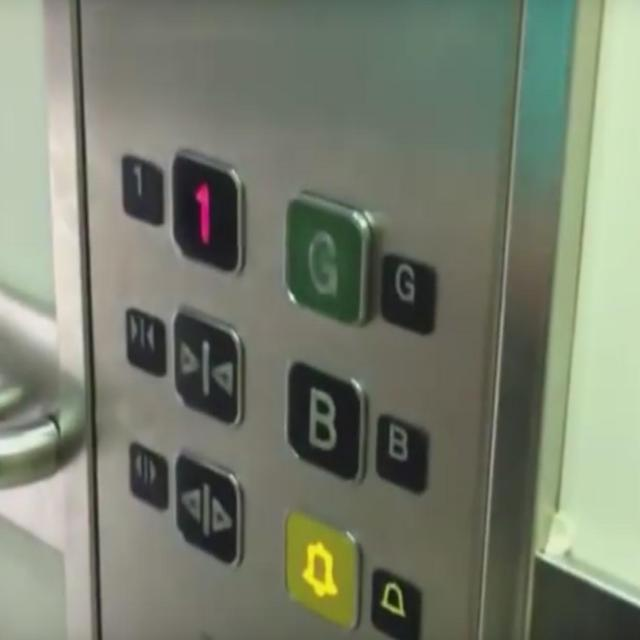1: (166, 140, 252, 286), (114, 143, 169, 235)
B: (281, 353, 372, 488), (370, 407, 434, 498)
G: (277, 182, 380, 332), (376, 249, 441, 341)
alarm: (276, 501, 367, 635), (368, 562, 424, 639)
close: (168, 298, 250, 433), (117, 298, 171, 385)
open: (172, 445, 251, 576), (120, 435, 173, 516)
